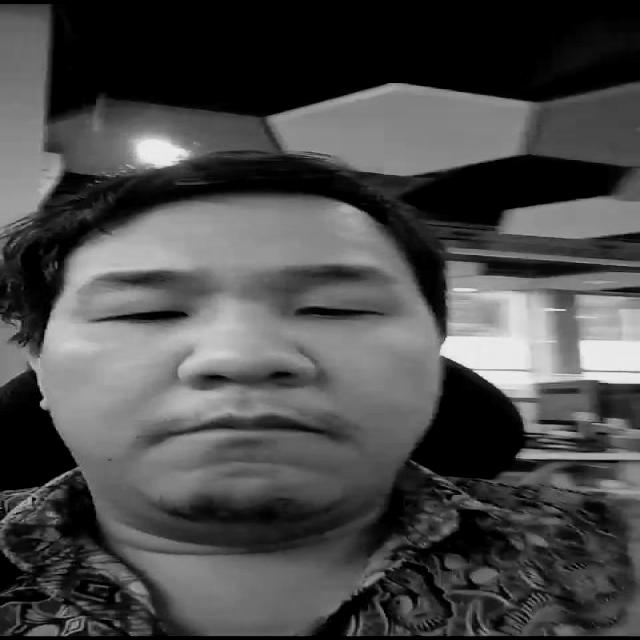real: (0, 144, 450, 532)
